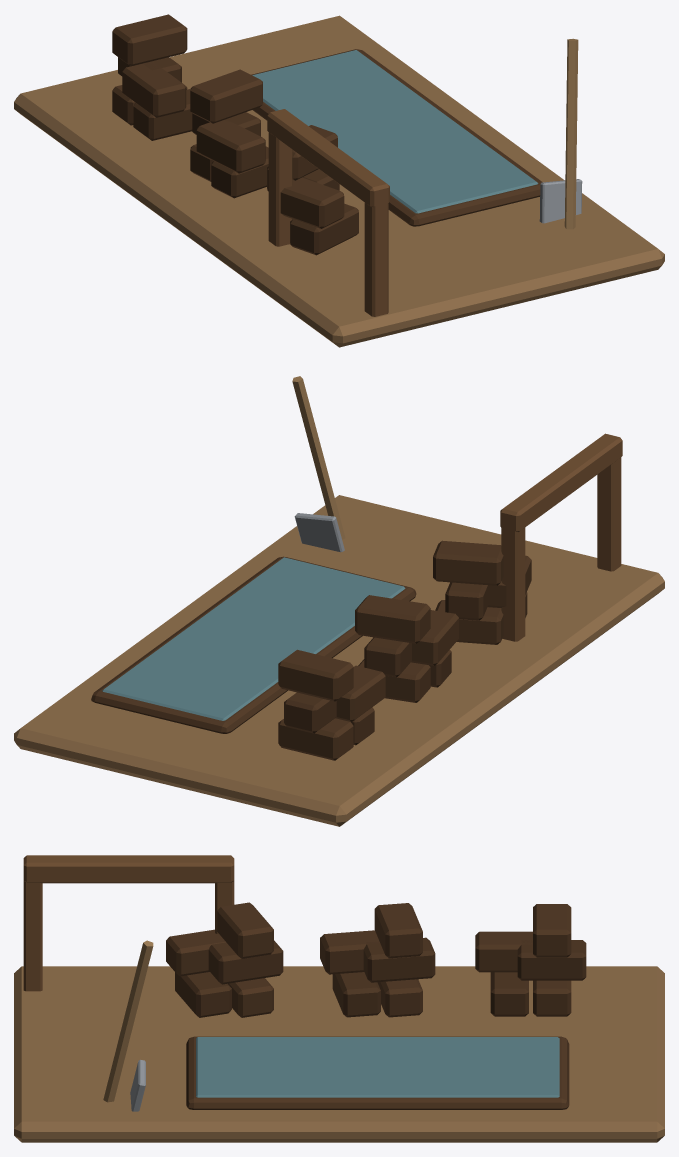
The model's file is peat_cut.fbx.
3 renders of one model, top to bottom at view 1: azimuth 30°, elevation 25°; view 2: azimuth 150°, elevation 25°; view 3: azimuth 270°, elevation 25°, orthographic.
Visible parts, largest first — view 1: Building; view 2: Building; view 3: Building.
Boxes of the visible parts, x1=… form: Building: x1=14, y1=14, x2=664, y2=347; Building: x1=14, y1=376, x2=664, y2=826; Building: x1=14, y1=855, x2=664, y2=1142.
Bounding box in the file's own units: 1 × 1.7 × 0.5469.
